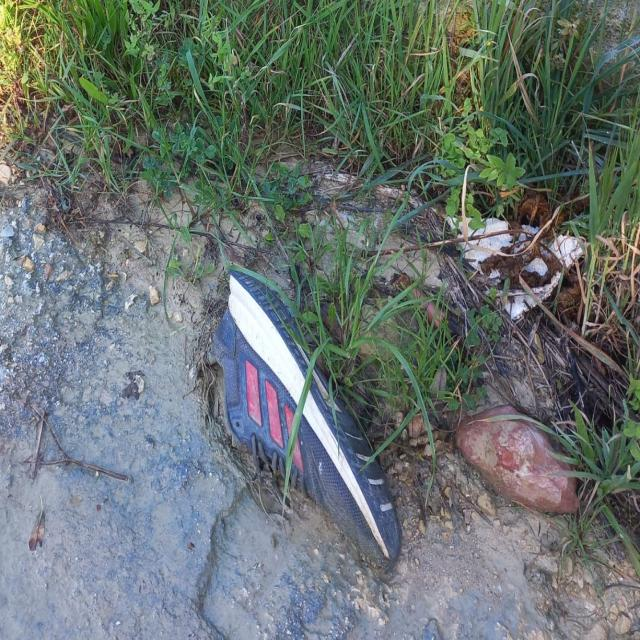Other litter: (202, 266, 410, 571), (444, 216, 592, 328)
